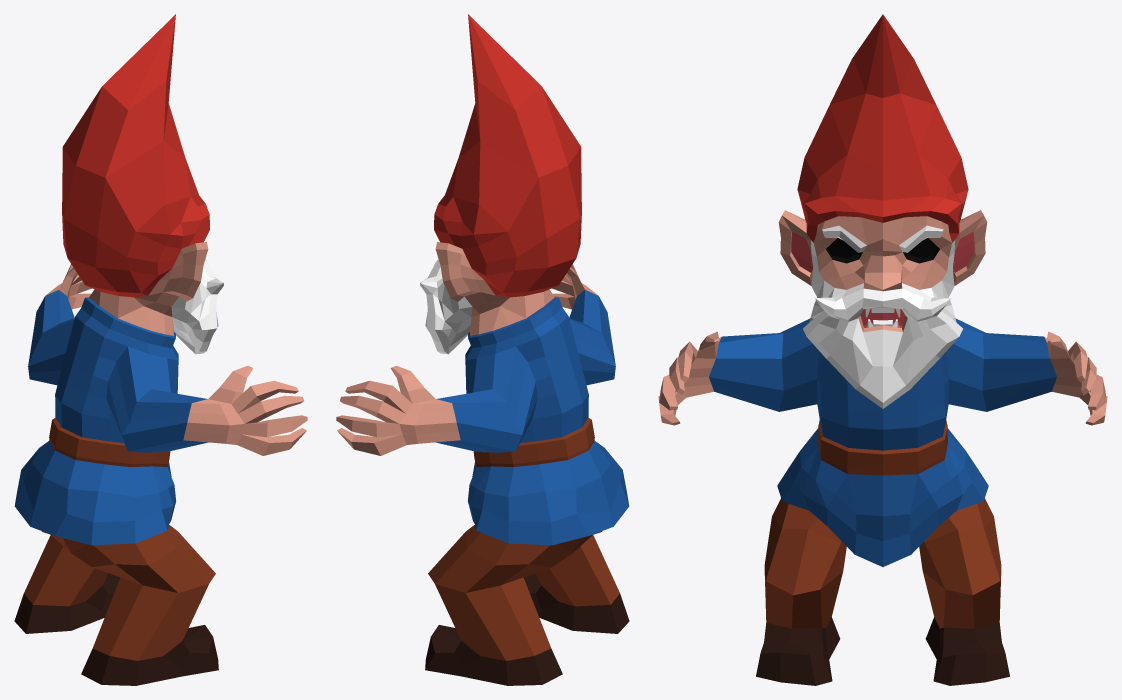
Rendered from Gnome_Garden_Evil.fbx.
3 renders of one model, left to right at view 1: azimuth 30°, elevation 25°; view 2: azimuth 150°, elevation 25°; view 3: azimuth 270°, elevation 25°, orthographic. The views are drawn at different scales.
Visible parts, largest first — view 1: Gnome_Garden_Evil; view 2: Gnome_Garden_Evil; view 3: Gnome_Garden_Evil.
Part boxes in pixels (<box>): Gnome_Garden_Evil: <box>14,14,307,685</box>; Gnome_Garden_Evil: <box>336,14,629,685</box>; Gnome_Garden_Evil: <box>658,14,1107,685</box>.
Size of the model in its own units: 149 by 479 by 291.
